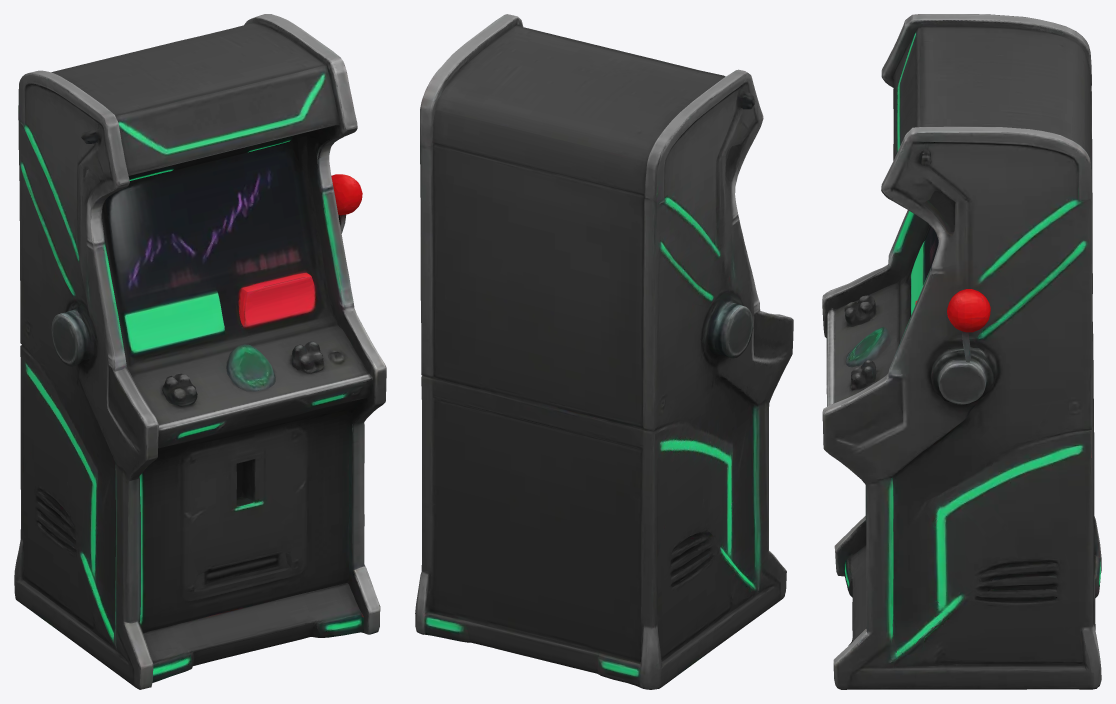
Rendered from m_trade.glb.
3 renders of one model, left to right at view 1: azimuth 30°, elevation 25°; view 2: azimuth 150°, elevation 25°; view 3: azimuth 270°, elevation 25°, orthographic.
Parts seen in each view (by area): view 1: geometry_0; view 2: geometry_0; view 3: geometry_0.
Part boxes in pixels (x1=…): geometry_0: x1=14, y1=14, x2=386, y2=689; geometry_0: x1=415, y1=14, x2=793, y2=689; geometry_0: x1=822, y1=14, x2=1101, y2=689.
Bounding box in the file's own units: 0.5734 × 1 × 0.4543.
Materials: 1 (1 with a texture image).
